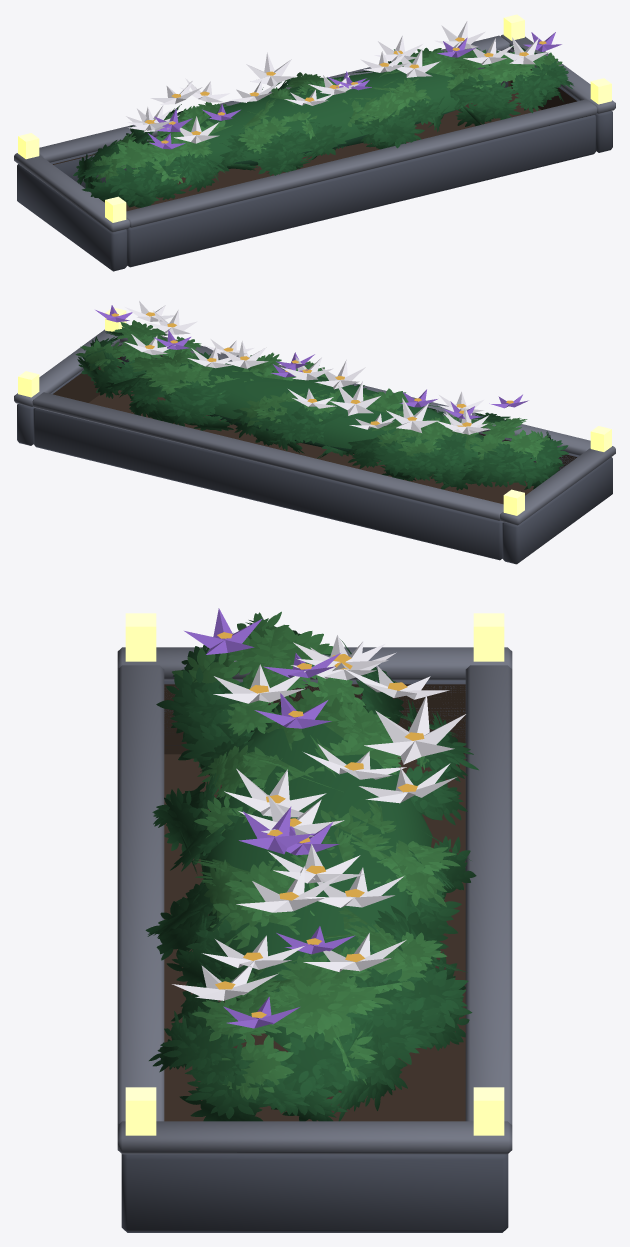
The model's file is flowerbed.glb.
3 views of the same model, one above another, from view 1: azimuth 30°, elevation 25°; view 2: azimuth 150°, elevation 25°; view 3: azimuth 270°, elevation 25° (orthographic). The views are drawn at different scales.
Visible parts, largest first — view 1: body, lights; view 2: body, lights; view 3: body, lights.
Part boxes in pixels (x1,y1,x2,y2): body: (14,21,615,271); lights: (18,14,611,222); body: (14,301,615,564); lights: (18,307,611,515); body: (117,608,512,1232); lights: (125,613,504,1135).
Size of the model in its own units: 3.04 by 0.6002 by 1.02.
Materials: 3 (1 with a texture image).
